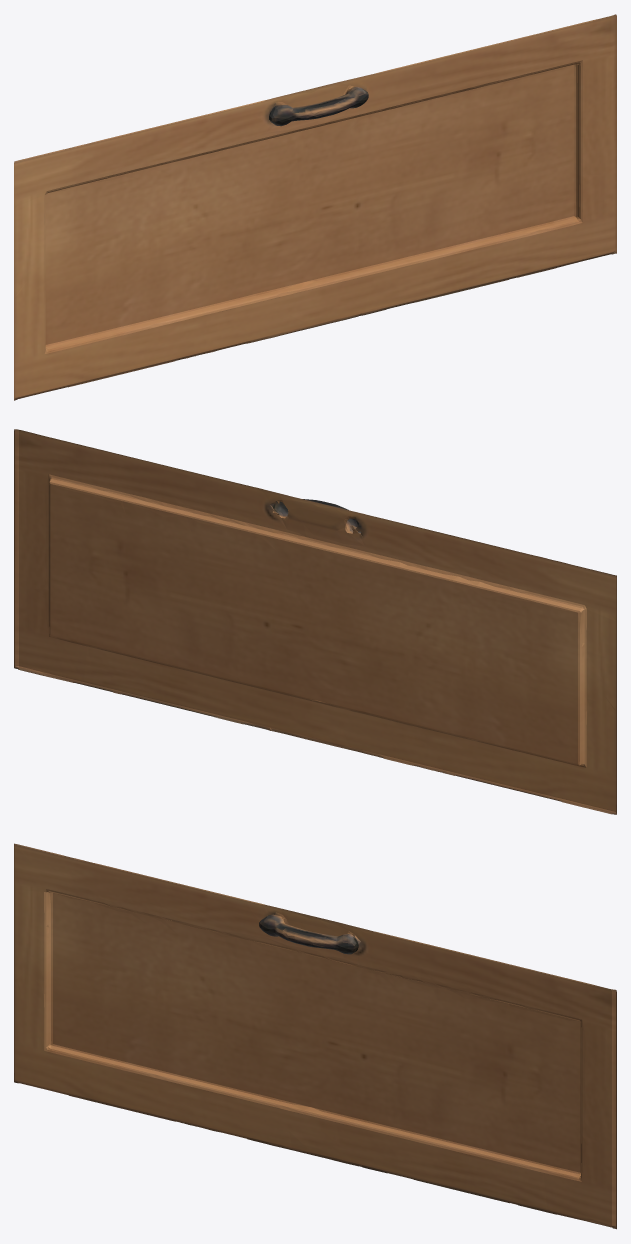
File: door_upper.glb
The picture shows the model from 3 angles, top to bottom: view 1: azimuth 30°, elevation 25°; view 2: azimuth 150°, elevation 25°; view 3: azimuth 330°, elevation 25°; orthographic projection.
Parts seen in each view (by area): view 1: source_surface_0; view 2: source_surface_0; view 3: source_surface_0.
Boxes of the visible parts, x1=… form: source_surface_0: x1=14, y1=14, x2=616, y2=400; source_surface_0: x1=14, y1=429, x2=616, y2=814; source_surface_0: x1=14, y1=843, x2=616, y2=1229.
Bounding box in the file's own units: 0.8101 × 0.3073 × 0.0407.
Materials: 1 (1 with a texture image).
